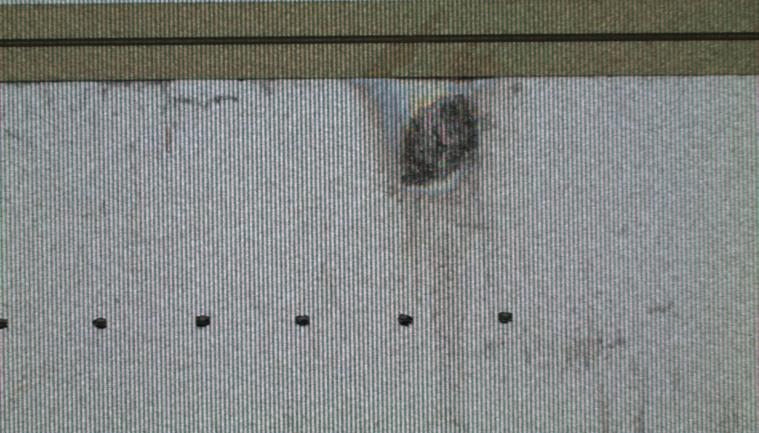SEZ BURNT: (1, 2, 755, 433)
